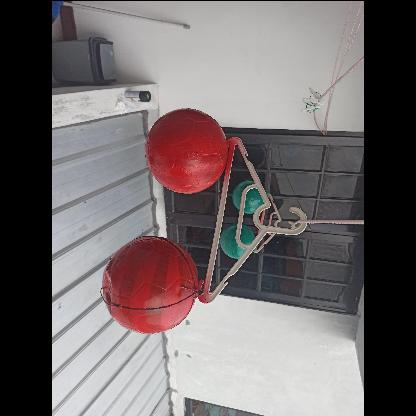red_ball: (104, 238, 198, 332), (147, 109, 229, 191)
